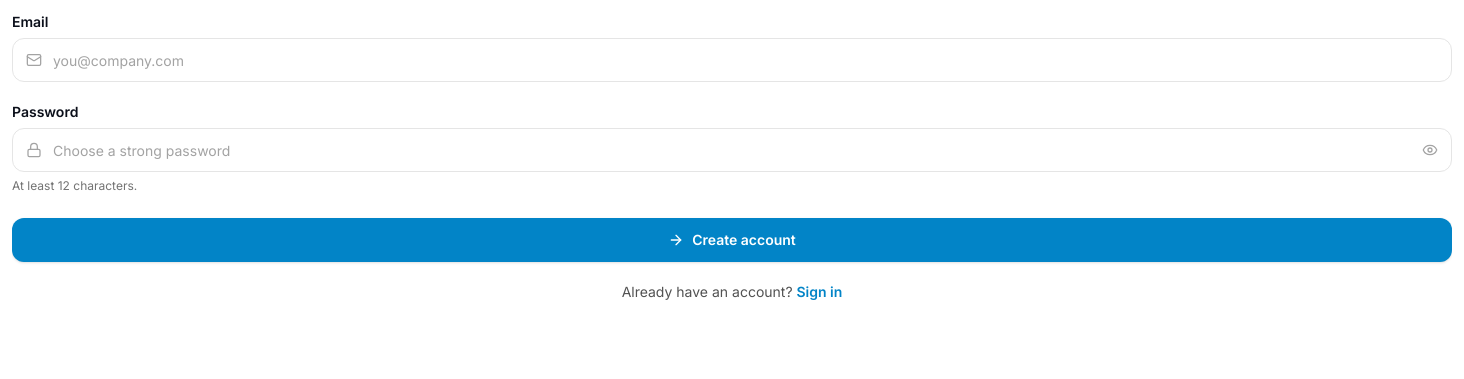
Test: RegisterForm › renders the backend's email_taken message when registration fails
Step 1. Type "a@b.com" into the field labelled "Email" → (732, 60), box [12, 38, 1452, 82]
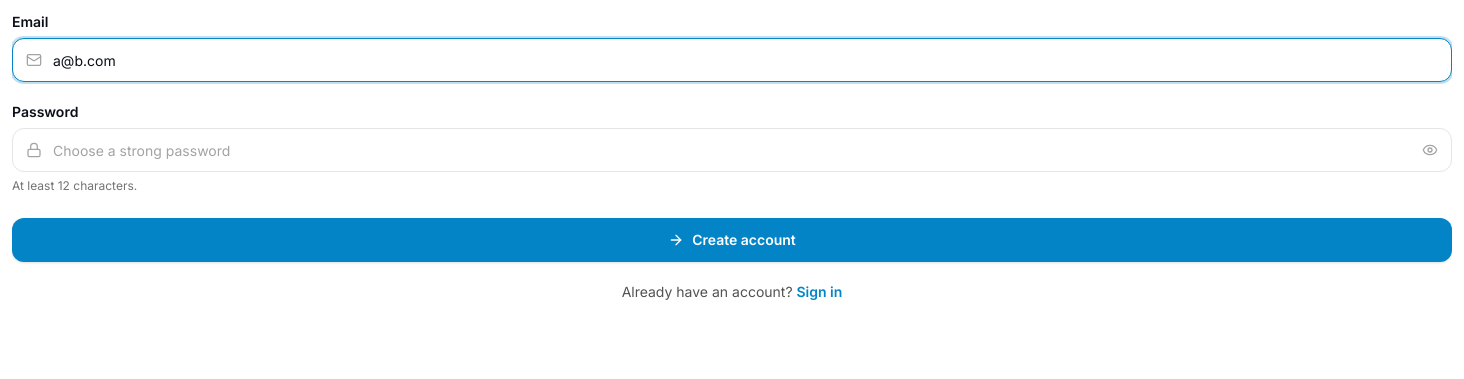
Step 2. Type "correcthorsebattery" into the password field labelled "Password" → (732, 150), box [12, 128, 1452, 172]
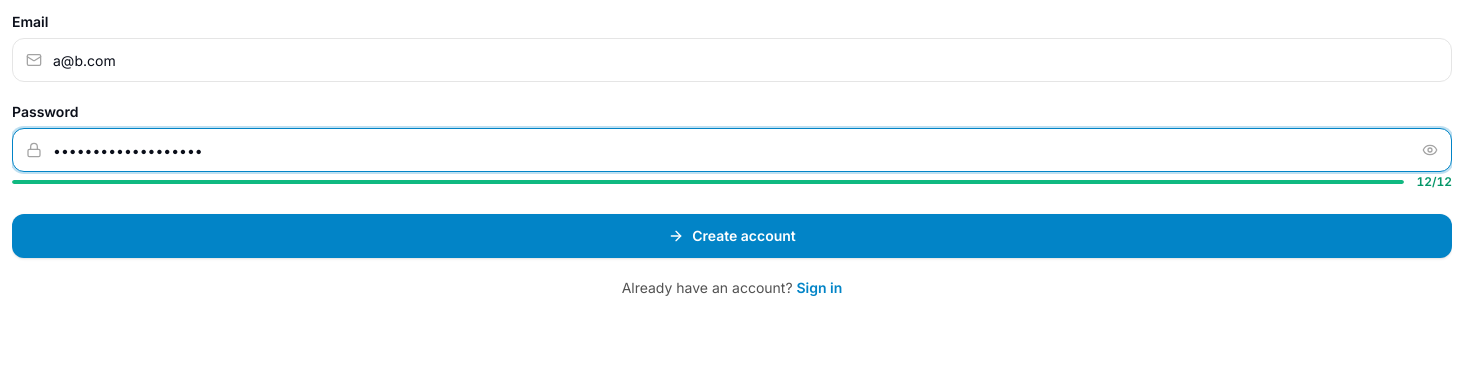
Step 3. Click the button "Create account" → click(732, 236), box [12, 214, 1452, 258]
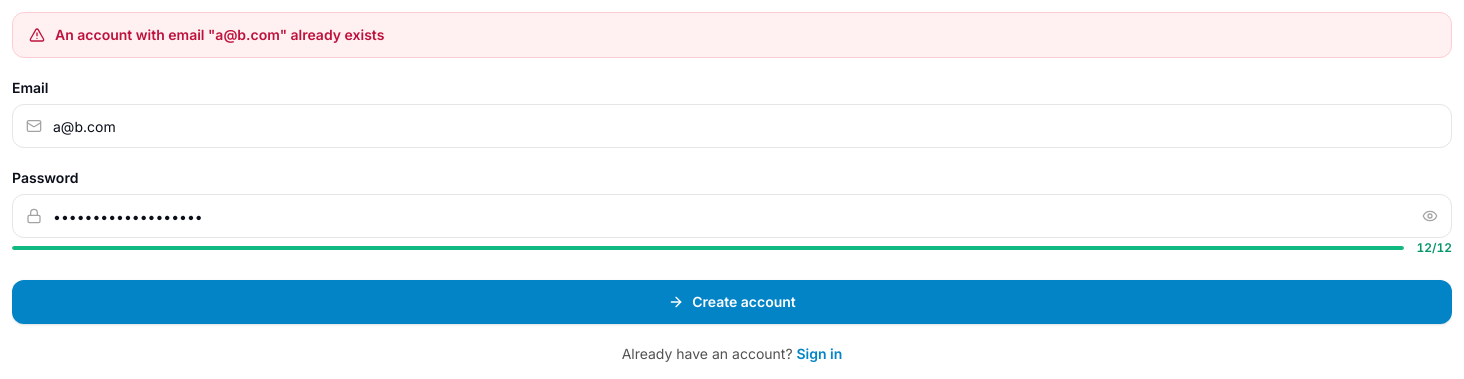
Expected: the message shows "already exists", [55, 26, 384, 43]
